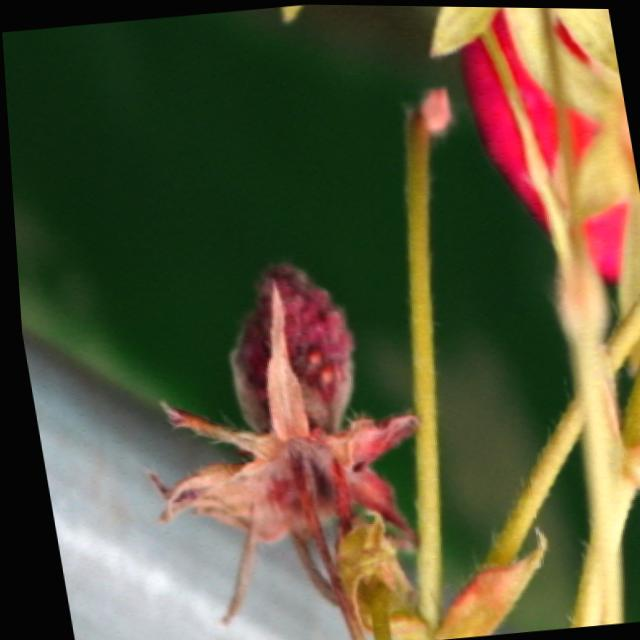Gray Mold: (139, 259, 416, 623)
